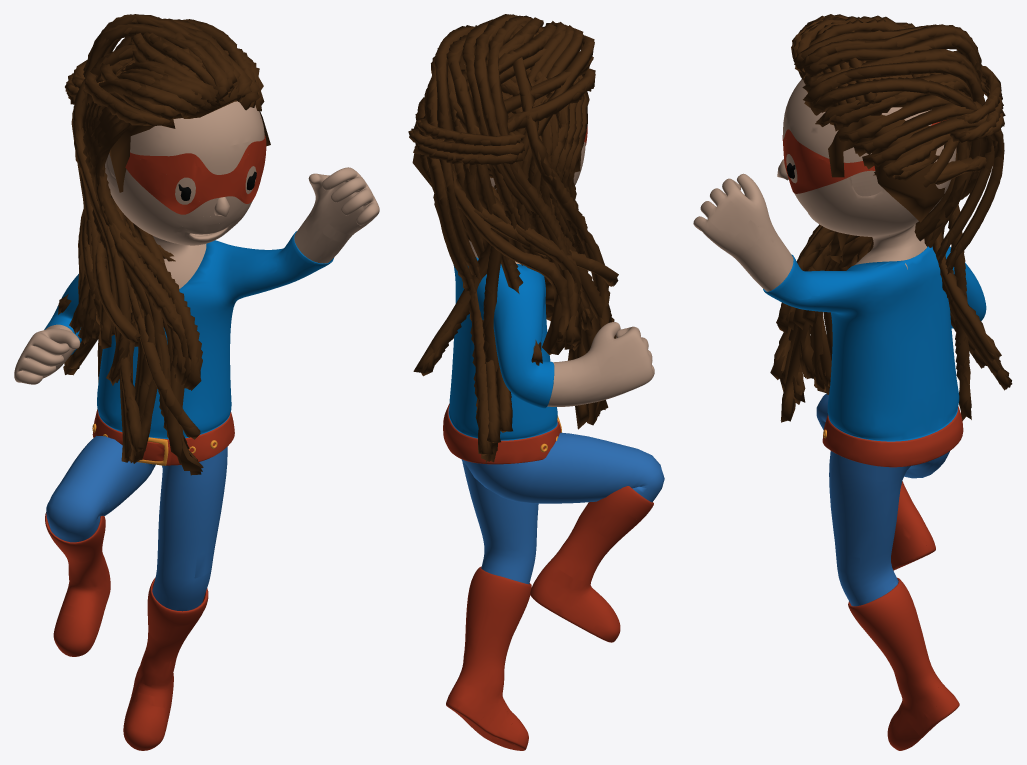
The model's file is superhero-min.gltf.
3 views of the same model, side by side, from view 1: azimuth 30°, elevation 25°; view 2: azimuth 150°, elevation 25°; view 3: azimuth 270°, elevation 25° (orthographic). The views are drawn at different scales.
Visible parts, largest first — view 1: SuperGirl, Hair; view 2: Hair, SuperGirl; view 3: SuperGirl, Hair.
Boxes of the visible parts, bbox=[...] form: SuperGirl: bbox=[14, 101, 379, 750]; Hair: bbox=[58, 14, 270, 475]; Hair: bbox=[408, 14, 618, 462]; SuperGirl: bbox=[443, 126, 664, 750]; SuperGirl: bbox=[693, 79, 986, 750]; Hair: bbox=[770, 14, 1012, 422].
Bounding box in the file's own units: 8.35 × 20.93 × 8.3.
